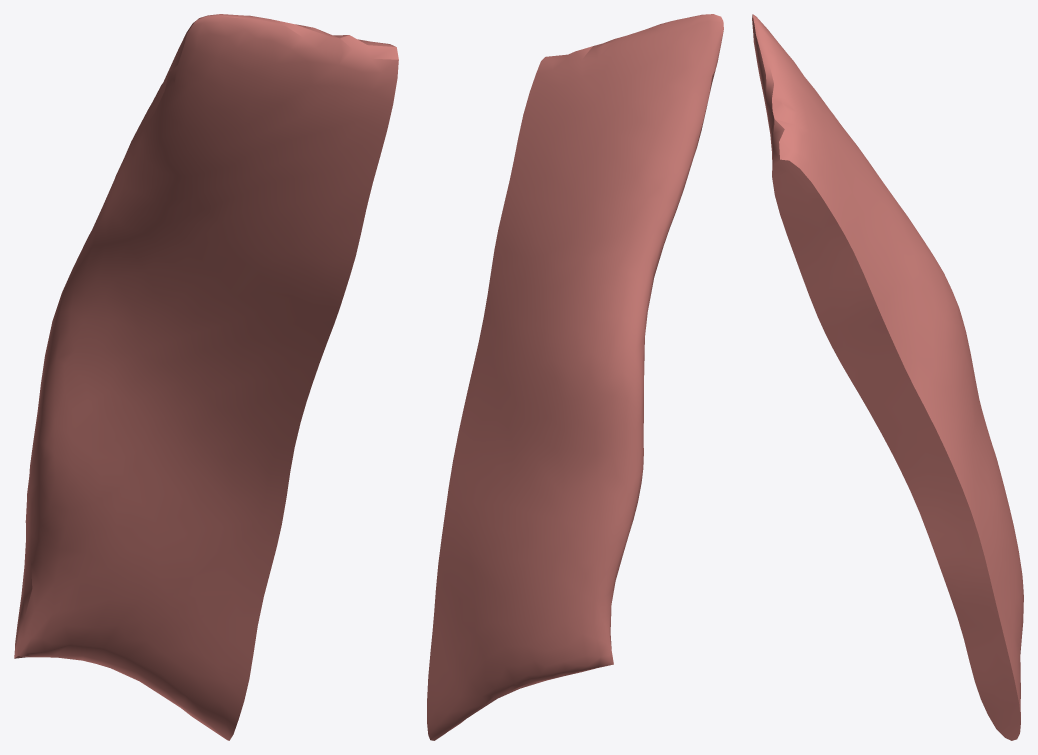
The model's file is fma48716-n_mm4015.glb.
3 renders of one model, left to right at view 1: azimuth 30°, elevation 25°; view 2: azimuth 150°, elevation 25°; view 3: azimuth 270°, elevation 25°, orthographic. The views are drawn at different scales.
Parts seen in each view (by area): view 1: FMA48716-N_MM4015; view 2: FMA48716-N_MM4015; view 3: FMA48716-N_MM4015.
Boxes of the visible parts, left/top/right/bottom form: FMA48716-N_MM4015: left=14, top=14, right=398, bottom=740; FMA48716-N_MM4015: left=427, top=14, right=723, bottom=740; FMA48716-N_MM4015: left=752, top=14, right=1023, bottom=740.
Size of the model in its own units: 0.0156 by 0.0549 by 0.0207.
